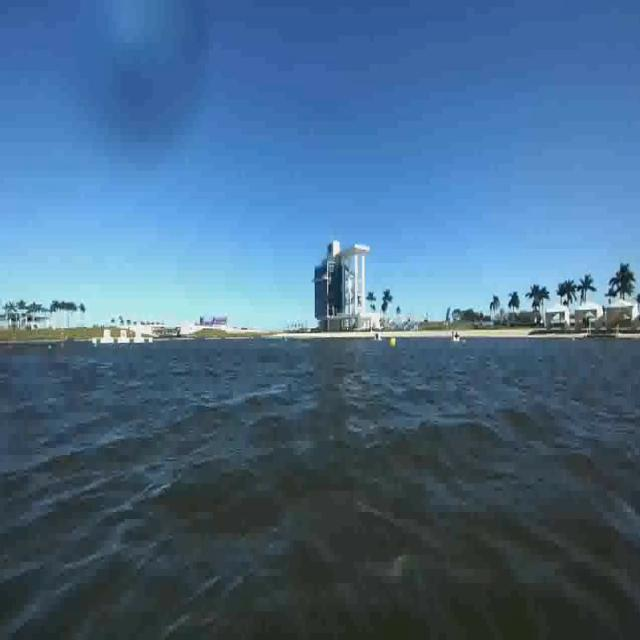yellow-buoy: (387, 338, 395, 350)
